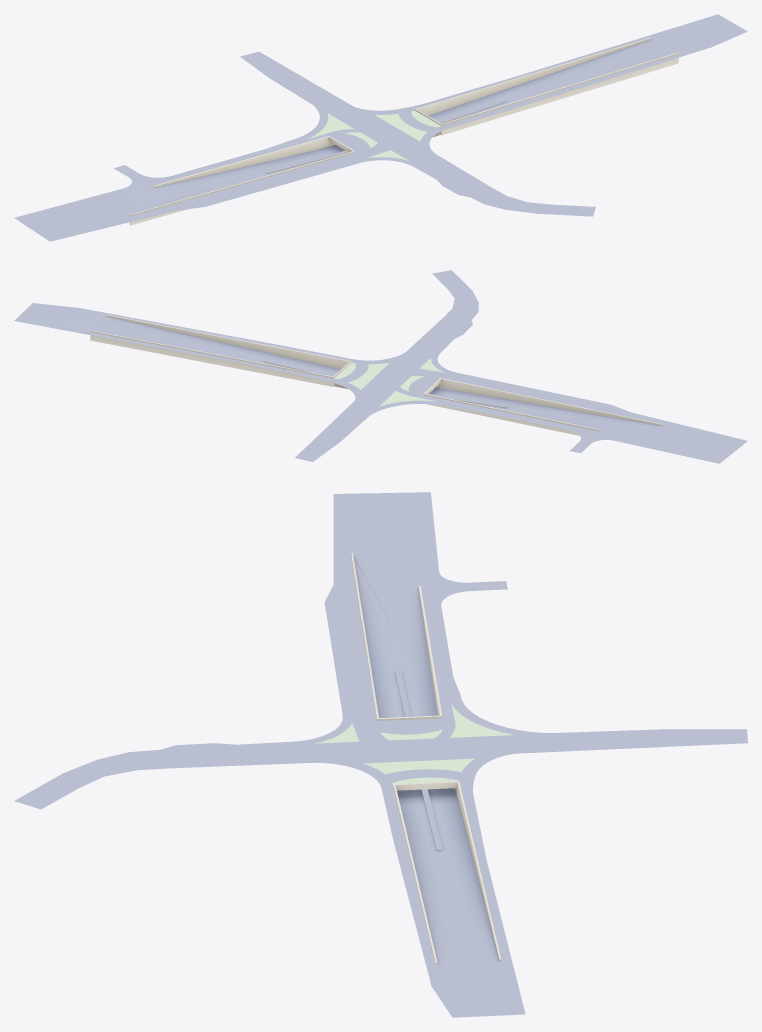
The model's file is Al-Farabi-Nazarbaeva-colored.glb.
3 renders of one model, top to bottom at view 1: azimuth 30°, elevation 25°; view 2: azimuth 150°, elevation 25°; view 3: azimuth 270°, elevation 25°, orthographic. The views are drawn at different scales.
Visible parts, largest first — view 1: group_0.004, group_0.002, group_2.006, group_1.004, group_3.003; view 2: group_0.004, group_2.006, group_0.002, group_1.004, group_3.003; view 3: group_0.004, group_0.002, group_2.006, group_1.004.
Boxes of the visible parts, left/top/right/bottom form: group_0.004: left=14, top=14, right=747, bottom=241; group_0.002: left=131, top=39, right=675, bottom=213; group_2.006: left=129, top=37, right=678, bottom=225; group_1.004: left=375, top=114, right=427, bottom=141; group_3.003: left=266, top=100, right=504, bottom=172; group_0.004: left=14, top=270, right=747, bottom=463; group_2.006: left=90, top=314, right=663, bottom=435; group_0.002: left=92, top=316, right=661, bottom=430; group_1.004: left=348, top=362, right=389, bottom=389; group_3.003: left=264, top=360, right=508, bottom=407; group_0.004: left=14, top=492, right=747, bottom=1017; group_0.002: left=353, top=555, right=499, bottom=964; group_2.006: left=351, top=553, right=501, bottom=964; group_1.004: left=363, top=758, right=474, bottom=774.
Size of the model in its own units: 588 by 8.02 by 347.
Materials: 5 (2 with a texture image).
